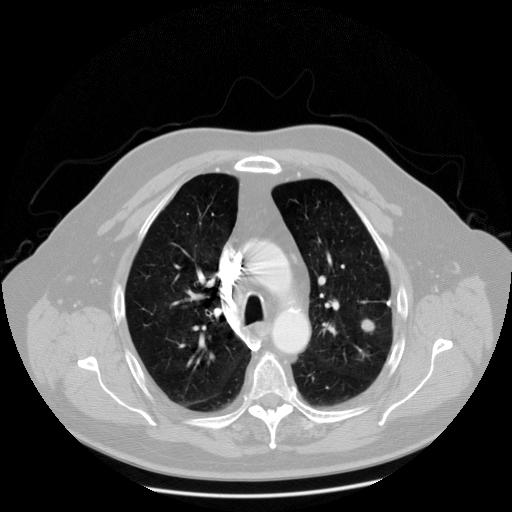nodule: (358, 316, 377, 335)
